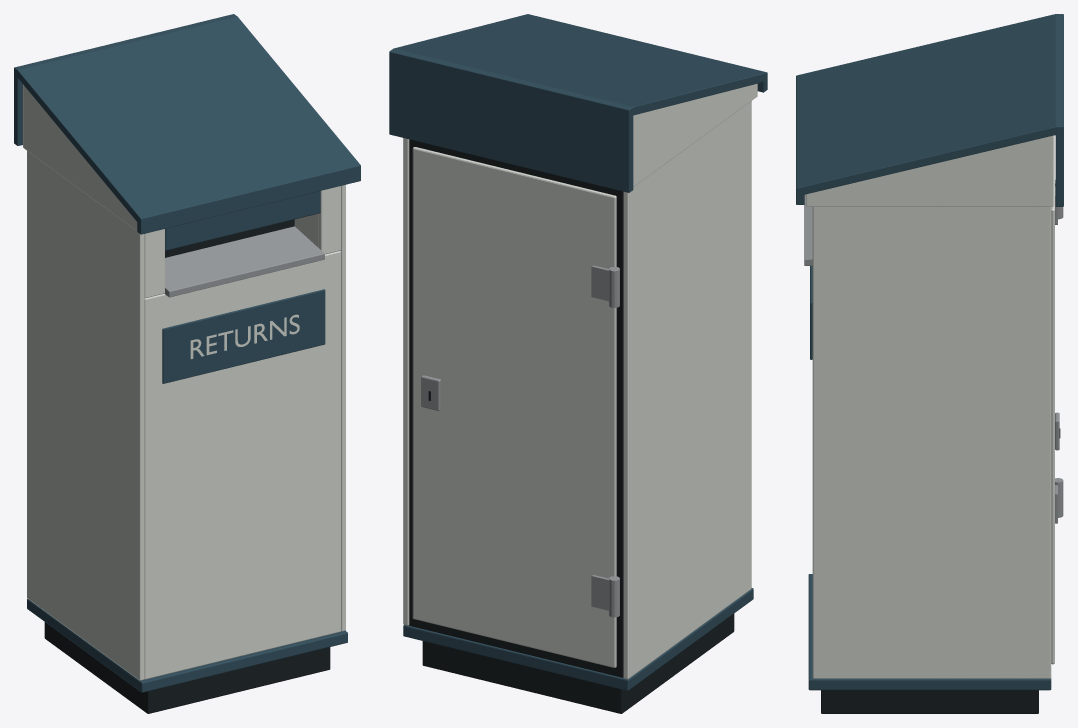
File: exterior-return-kiosk.glb
3 renders of one model, left to right at view 1: azimuth 30°, elevation 25°; view 2: azimuth 150°, elevation 25°; view 3: azimuth 270°, elevation 25°, orthographic. The views are drawn at different scales.
Visible parts, largest first — view 1: KioskEnamel, KioskTrim, KioskRecess, KioskHardware; view 2: KioskEnamel, KioskTrim, KioskRecess, KioskHardware; view 3: KioskEnamel, KioskTrim, KioskRecess, KioskHardware.
Part boxes in pixels (x1,y1,x2,y2): KioskEnamel: (23,84,345,680); KioskTrim: (14,14,360,692); KioskRecess: (44,219,330,713); KioskHardware: (164,226,324,297); KioskEnamel: (403,83,757,679); KioskTrim: (389,14,767,690); KioskRecess: (409,139,734,713); KioskHardware: (421,265,619,617); KioskEnamel: (806,135,1054,678); KioskTrim: (796,14,1063,690); KioskRecess: (821,428,1060,713); KioskHardware: (804,179,1063,523).
Size of the model in its own units: 1.3 by 3.2 by 1.3.
